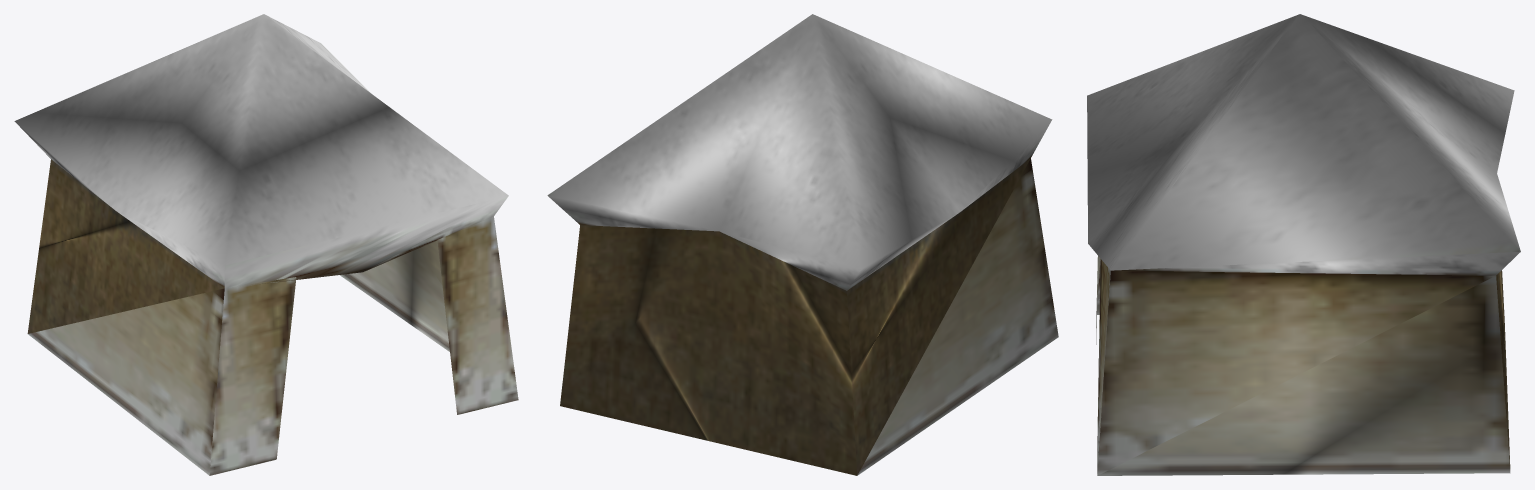
The model's file is nsm-general_obj_04_lod_01.fbx.
3 views of the same model, side by side, from view 1: azimuth 30°, elevation 25°; view 2: azimuth 150°, elevation 25°; view 3: azimuth 270°, elevation 25° (orthographic). The views are drawn at different scales.
Parts seen in each view (by area): view 1: Mesh01; view 2: Mesh01; view 3: Mesh01.
Part boxes in pixels (bbox=[...]): Mesh01: bbox=[14, 14, 518, 475]; Mesh01: bbox=[547, 14, 1058, 475]; Mesh01: bbox=[1087, 14, 1520, 475].
Bounding box in the file's own units: 4.71 × 5.16 × 5.35.
